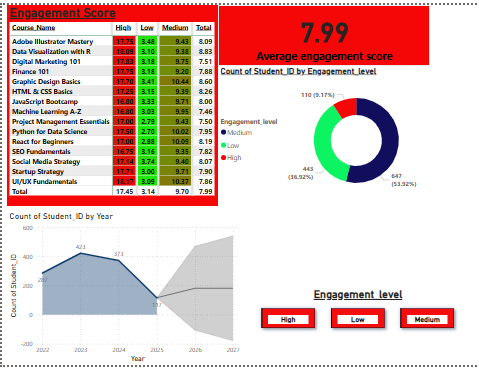

This screenshot's page, from the dashboard's own definition file:
{"tool":"powerbi","page":{"name":"Engagement Heatmap","canvas":[960,720],"ordinal":2},"visuals":[{"type":"pivotTable","title":"Engagement Score","fields":{"Rows":["online_course_student_data_1.Course_Name"],"Columns":["online_course_student_data_1.Engagement_level"],"Values":["Avg(online_course_student_data_1.Engagement_score)"]},"box":[10,0,421.7,401.7],"z":0},{"type":"card","fields":{"Values":["online_course_student_data_1.Average engagement score"]},"box":[431.4,0,424.3,122.9],"z":1000},{"type":"donutChart","fields":{"Y":["CountNonNull(online_course_student_data_1.Student_ID)"],"Category":["online_course_student_data_1.Engagement_level"]},"box":[431.4,122.9,424.3,278.6],"z":2000},{"type":"lineChart","fields":{"Category":["online_course_student_data_1.Enrollment_Date.Variation.Date Hierarchy.Year","online_course_student_data_1.Enrollment_Date.Variation.Date Hierarchy.Quarter","online_course_student_data_1.Enrollment_Date.Variation.Date Hierarchy.Month","online_course_student_data_1.Enrollment_Date.Variation.Date Hierarchy.Day"],"Y":["CountNonNull(online_course_student_data_1.Student_ID)"]},"box":[10,411.4,470,308.6],"z":3000},{"type":"advancedSlicerVisual","fields":{"Values":["online_course_student_data_1.Engagement_level"]},"box":[501.4,565.7,420,97.1],"z":4000}]}

Visuals, with their boxes in screenshot pixels (x1, y1, x2, y2), scaled from the page's 960x720 canvas onto the 479x369 screenshot:
"Engagement Score" pivotTable: l=5, t=0, r=215, b=206
card - online_course_student_data_1.Average engagement score: l=215, t=0, r=427, b=63
donutChart - CountNonNull(online_course_student_data_1.Student_ID) x online_course_student_data_1.Engagement_level: l=215, t=63, r=427, b=206
lineChart - online_course_student_data_1.Enrollment_Date.Variation.Date Hierarchy.Year x online_course_student_data_1.Enrollment_Date.Variation.Date Hierarchy.Quarter: l=5, t=211, r=240, b=368
advancedSlicerVisual - online_course_student_data_1.Engagement_level: l=250, t=290, r=460, b=340
